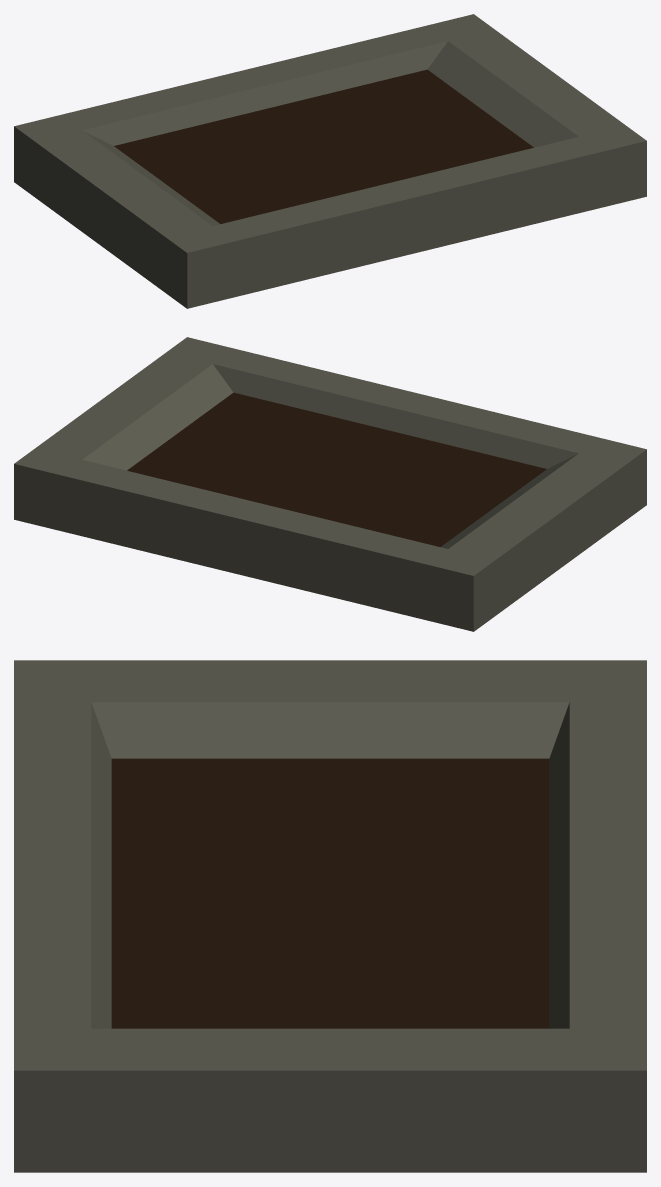
The model's file is FlowerBed1.glb.
The picture shows the model from 3 angles, top to bottom: view 1: azimuth 30°, elevation 25°; view 2: azimuth 150°, elevation 25°; view 3: azimuth 270°, elevation 25°; orthographic projection. The views are drawn at different scales.
Visible parts, largest first — view 1: FlowerBed1; view 2: FlowerBed1; view 3: FlowerBed1.
Boxes of the visible parts, x1=… form: FlowerBed1: x1=14, y1=14, x2=646, y2=308; FlowerBed1: x1=14, y1=337, x2=646, y2=631; FlowerBed1: x1=14, y1=660, x2=646, y2=1172.
Bounding box in the file's own units: 1.82 × 0.2107 × 1.18.
